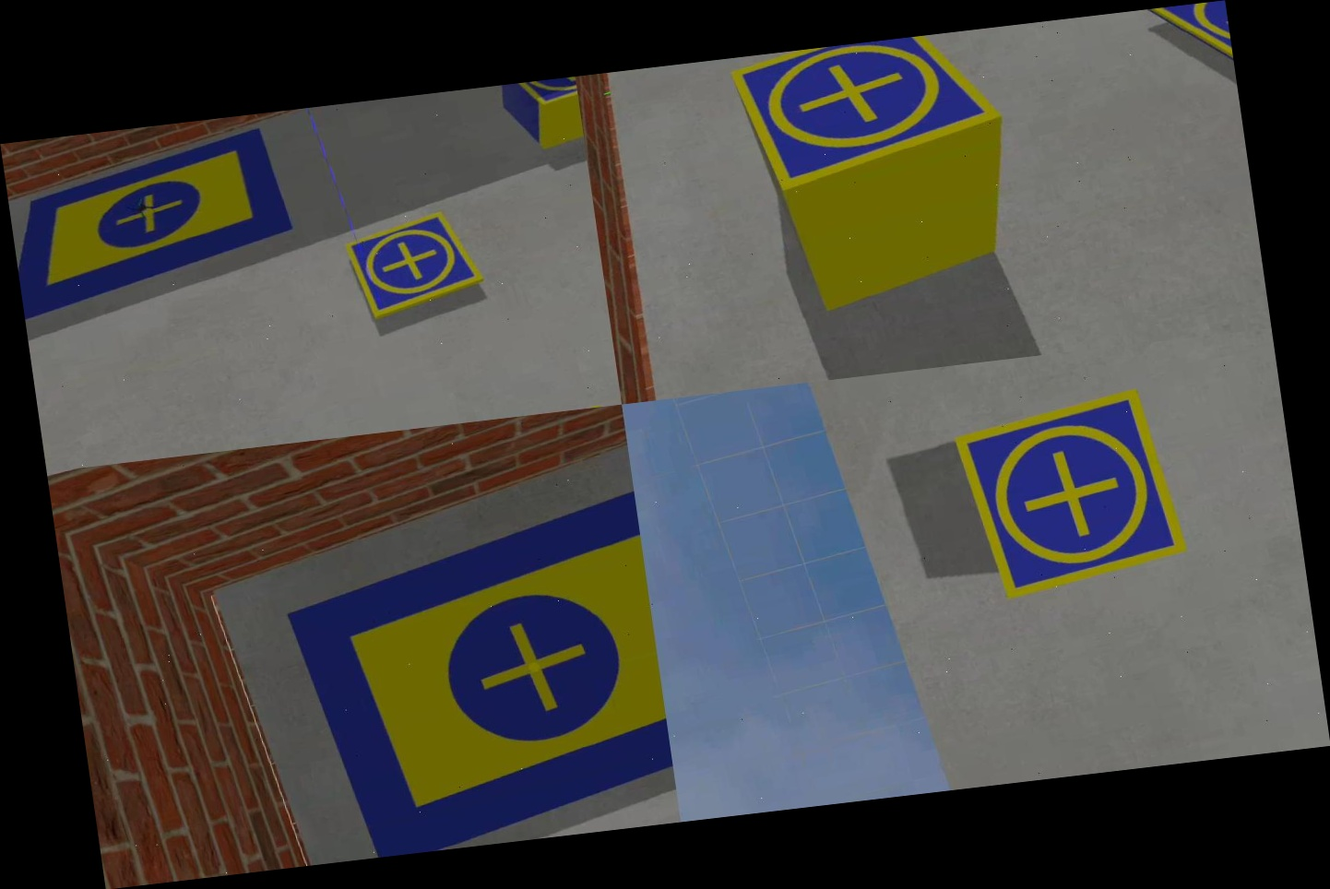large_base: (267, 476, 681, 864), (2, 124, 308, 322)
small_base: (945, 383, 1195, 604), (727, 28, 1013, 199), (338, 205, 490, 325), (1144, 0, 1237, 97), (500, 77, 580, 116)
